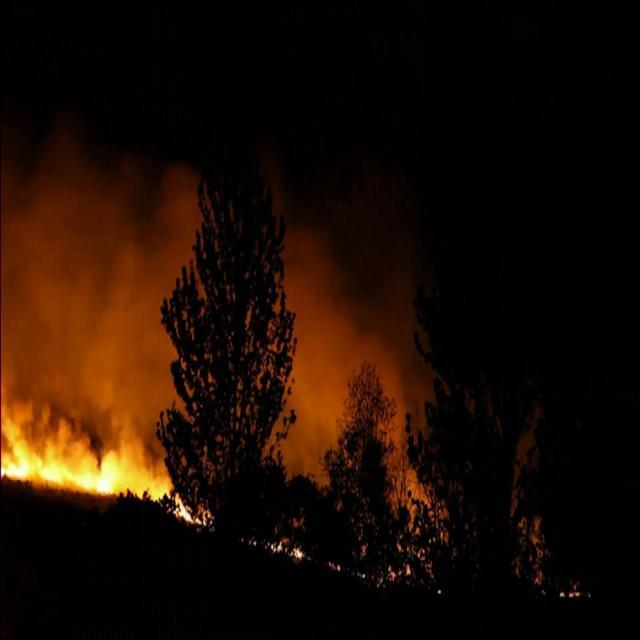Fire: (0, 378, 200, 528), (307, 526, 413, 592), (208, 502, 304, 559), (413, 462, 452, 597), (510, 507, 545, 590), (556, 580, 586, 602)
Smoke: (208, 148, 396, 513), (0, 116, 206, 376), (398, 227, 473, 450)
